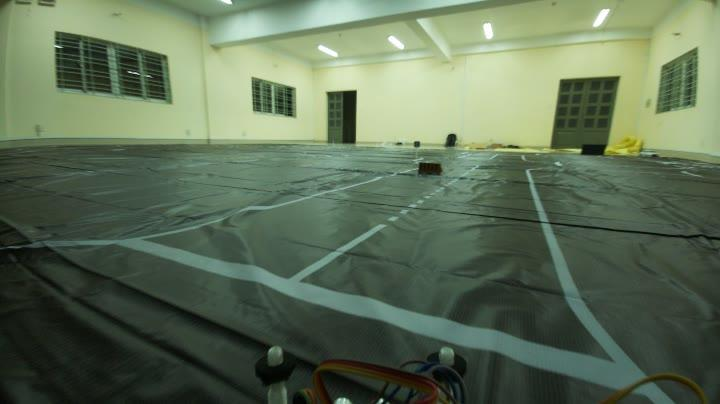roadblock: (414, 159, 445, 180)
